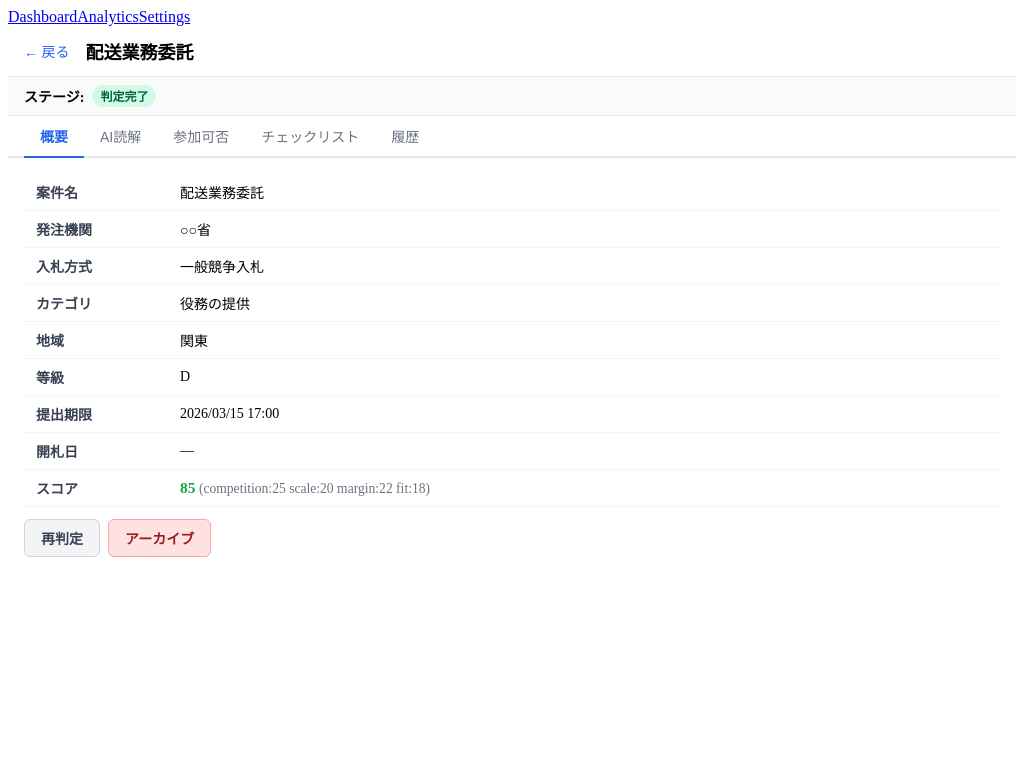
Test: EligibilityTab — VerdictBadge › shows uncertain verdict badge
Click the button with test id "tab-eligibility": (201, 137) top-left (157, 116), bottom-right (245, 158)
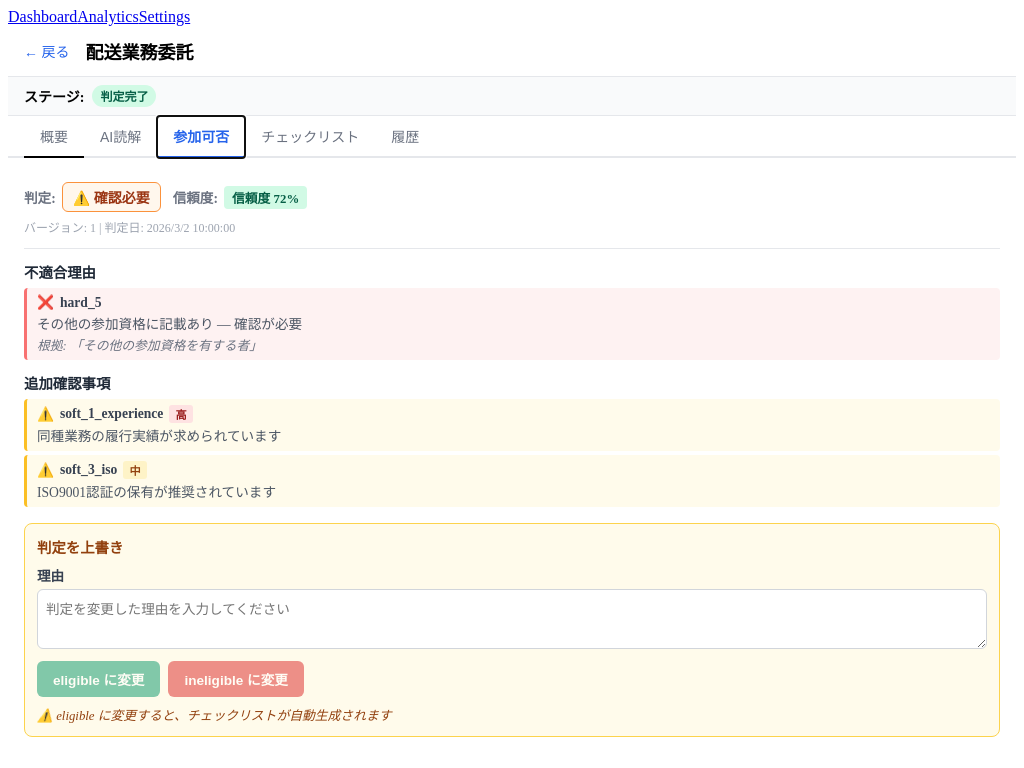
Check: the text with test id "verdict-badge" shows "確認必要", box top-left (94, 191), bottom-right (150, 206)
